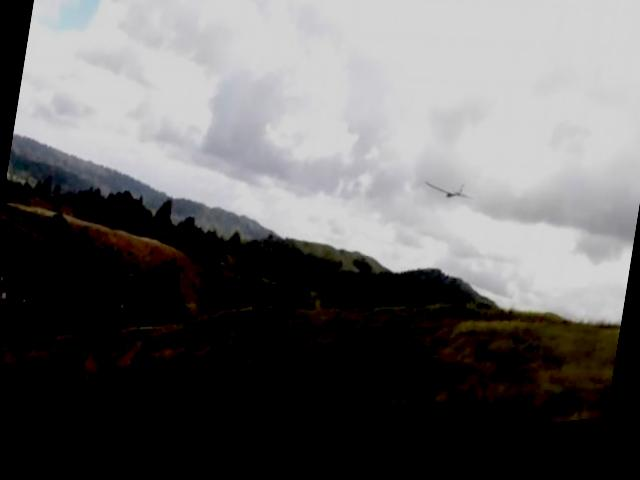iha: (422, 184, 474, 218)
